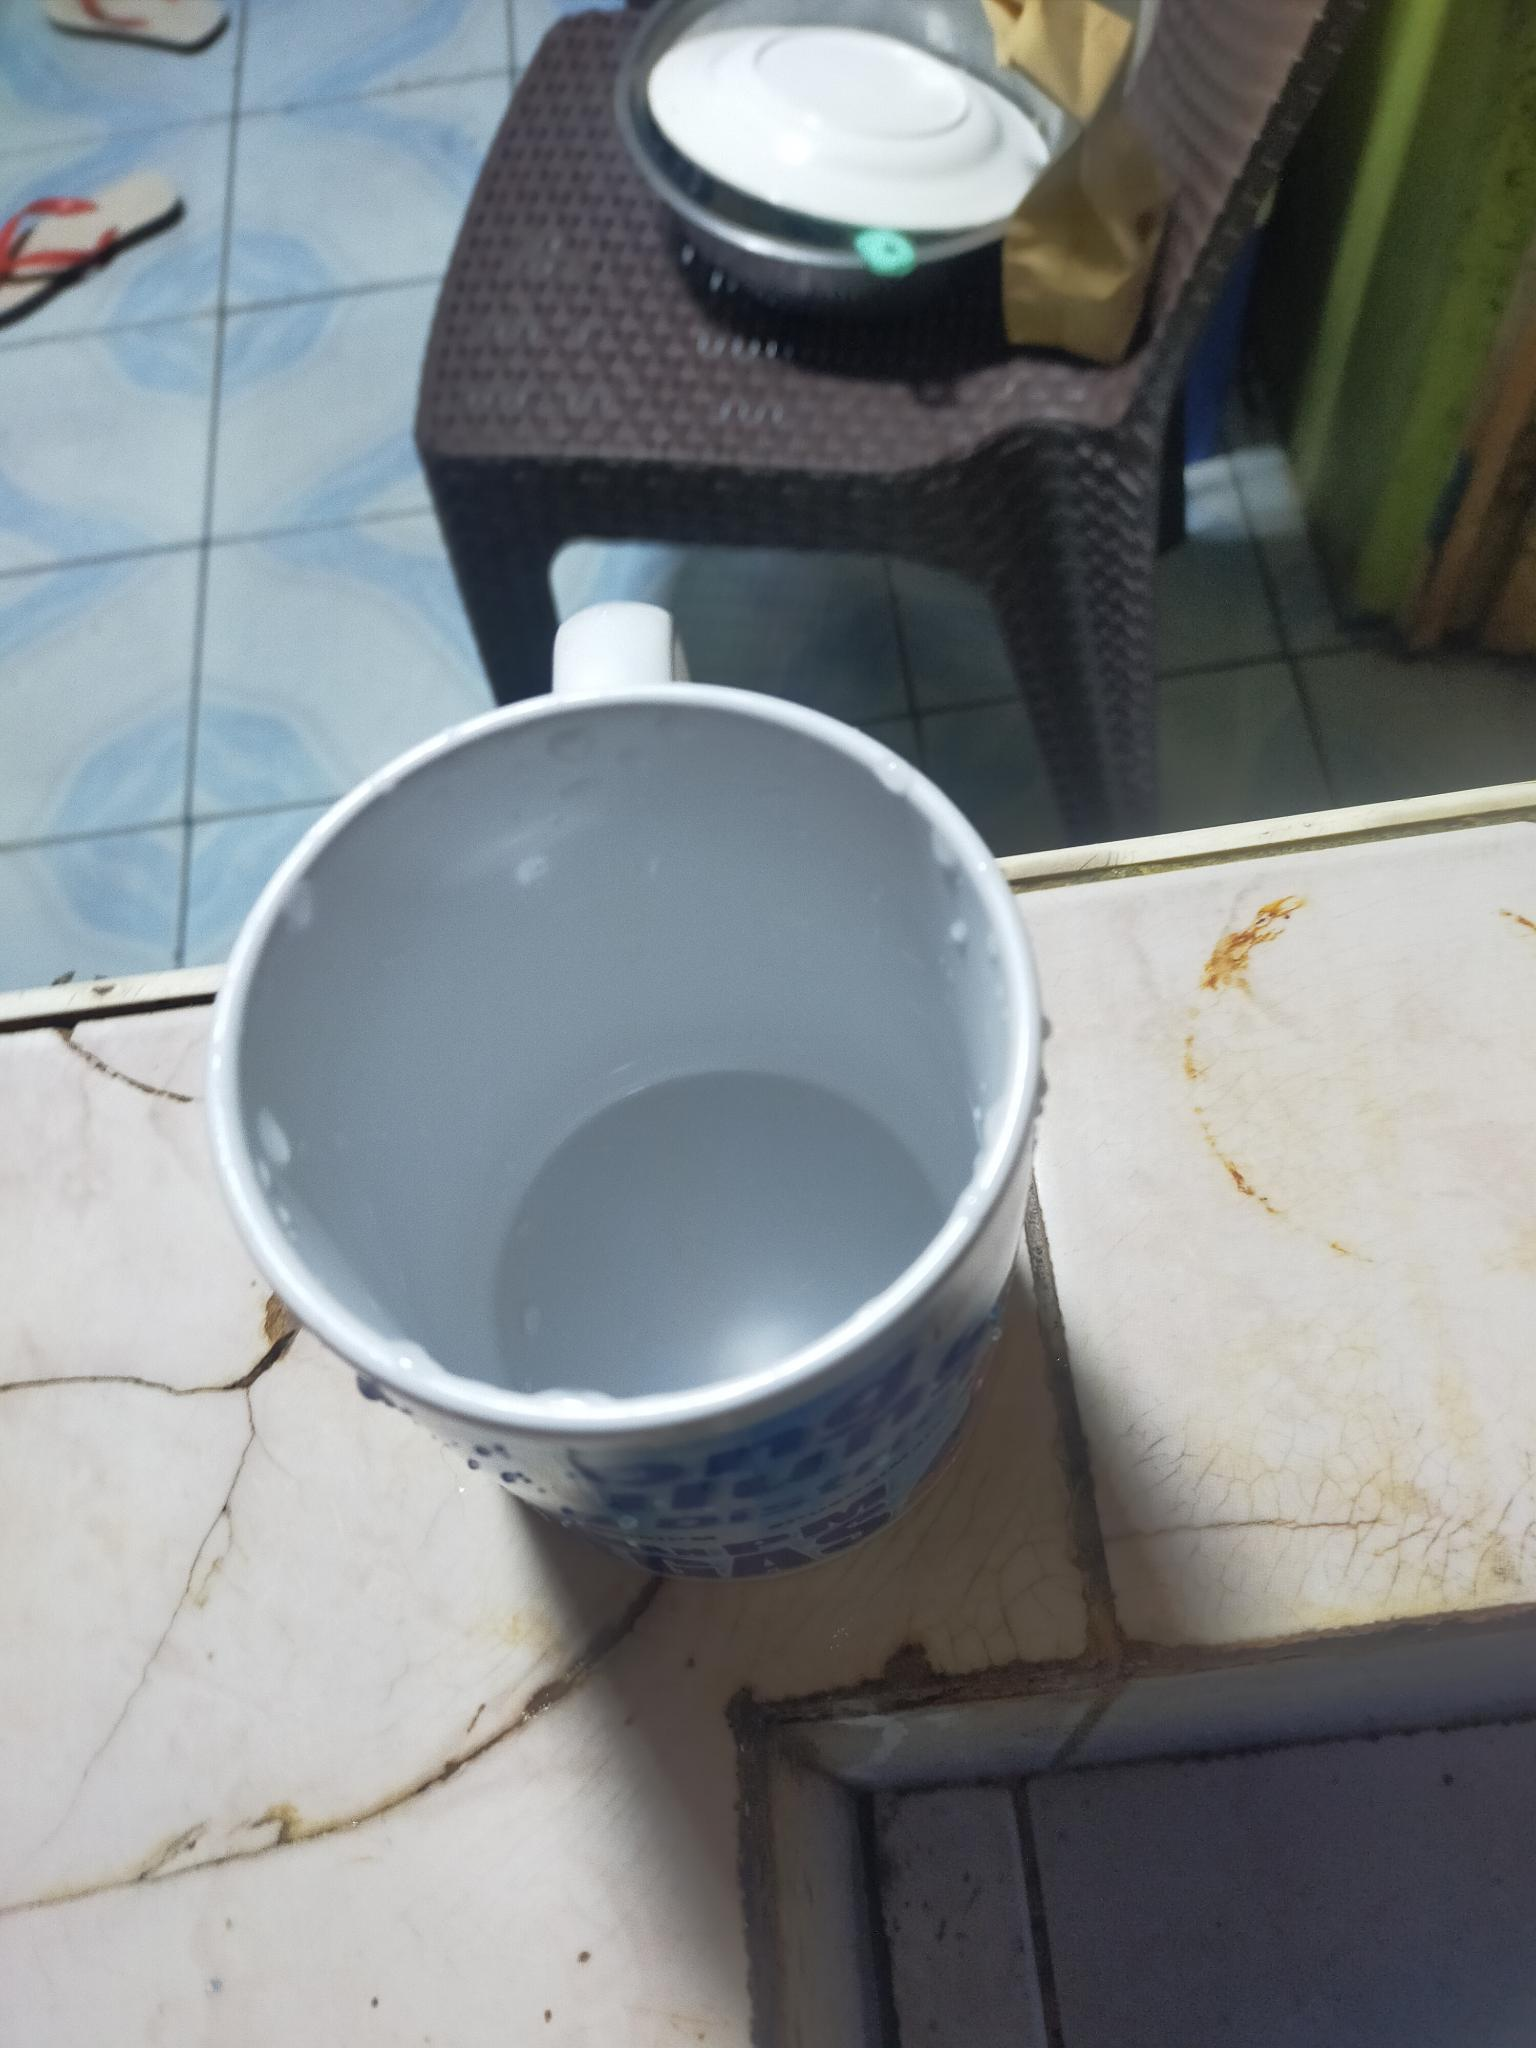Coffee Mug: (213, 603, 1049, 1579)
